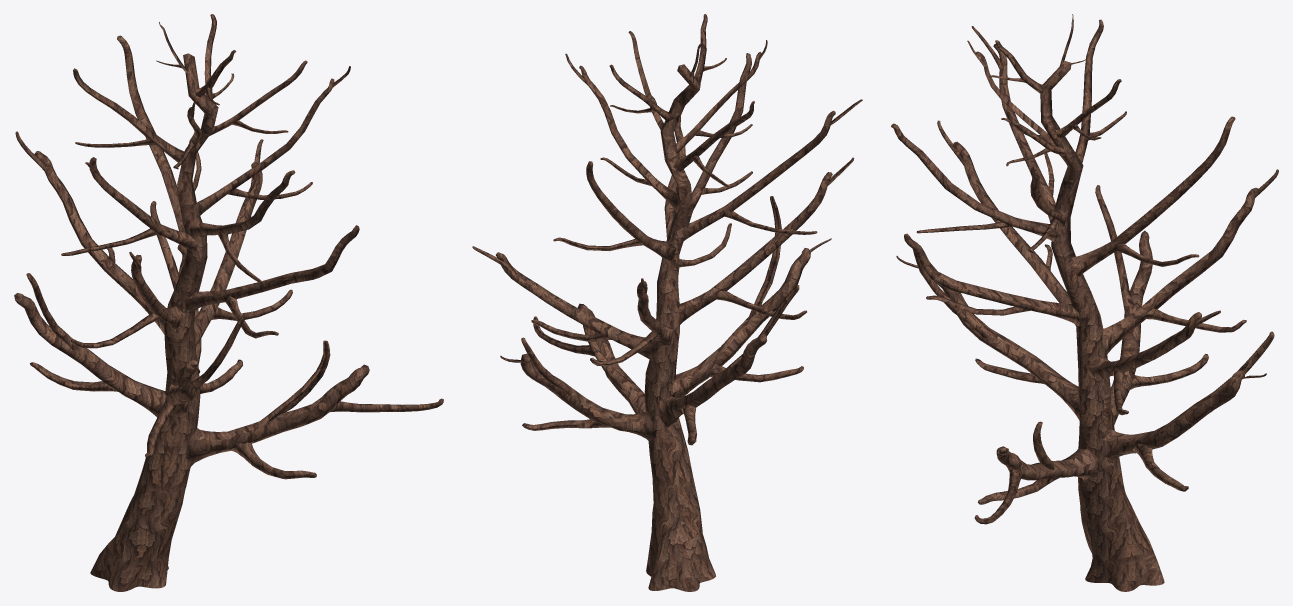
Rendered from dtree_dead_2.glb.
3 views of the same model, side by side, from view 1: azimuth 30°, elevation 25°; view 2: azimuth 150°, elevation 25°; view 3: azimuth 270°, elevation 25° (orthographic). The views are drawn at different scales.
Parts seen in each view (by area): view 1: model; view 2: model; view 3: model.
Boxes of the visible parts, x1=… form: model: x1=14, y1=14, x2=443, y2=591; model: x1=472, y1=14, x2=862, y2=591; model: x1=891, y1=14, x2=1278, y2=591.
Size of the model in its own units: 4.21 by 6.42 by 4.01.
Materials: 1 (1 with a texture image).
